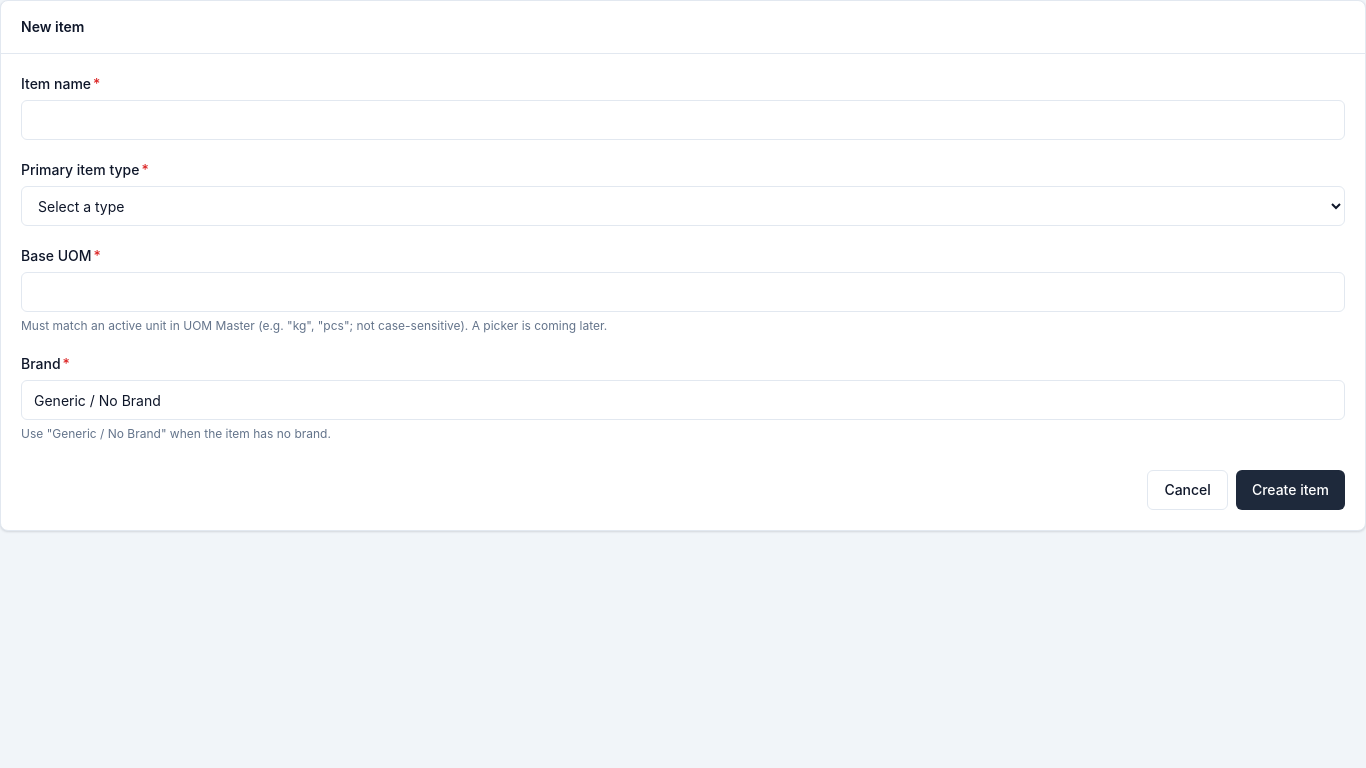
Test: ItemFormPage › surfaces a 401 honestly instead of pretending the create succeeded
The image size is (1366, 768).
Type "Flour" into the field labelled "Item name*" at (683, 120), box 21,100 -> 1345,140
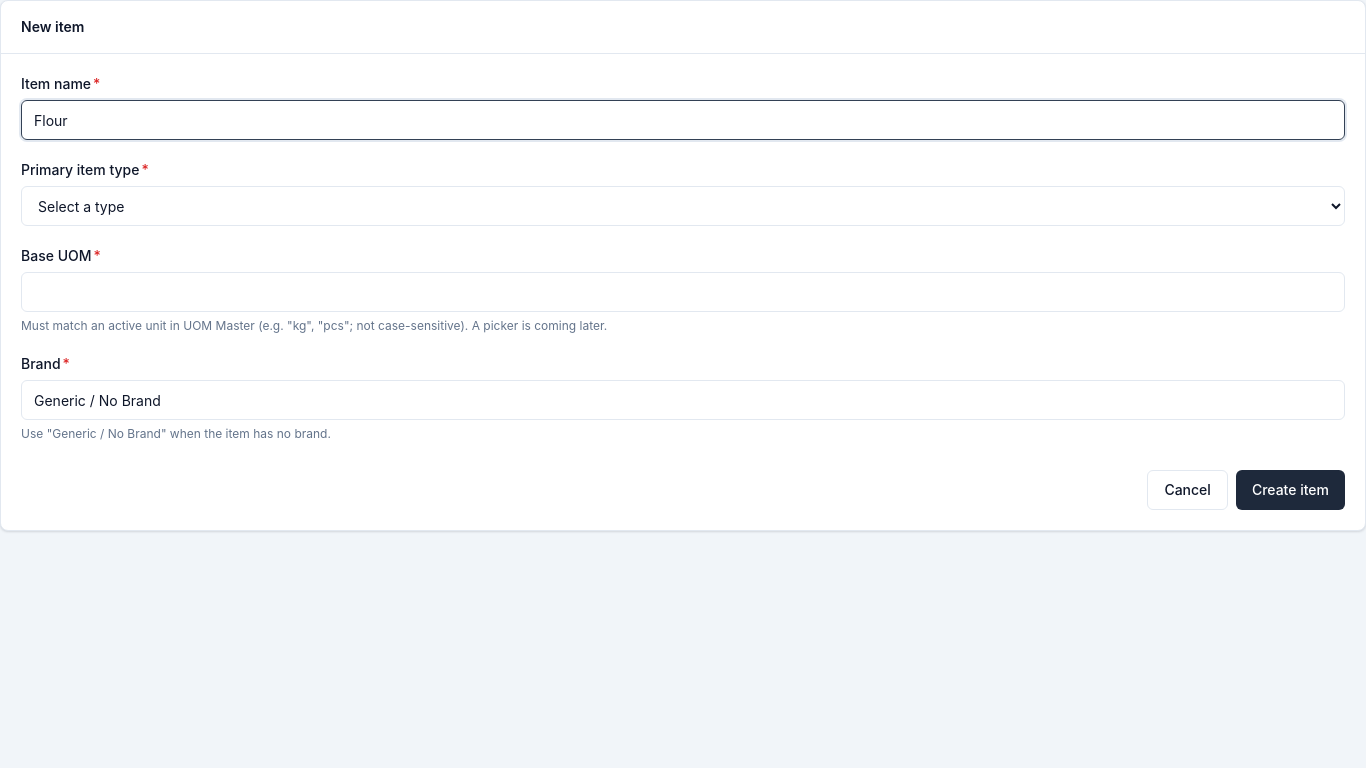
Select "Raw material" in the dropdown labelled "Primary item type*" at (683, 206), box 21,186 -> 1345,226
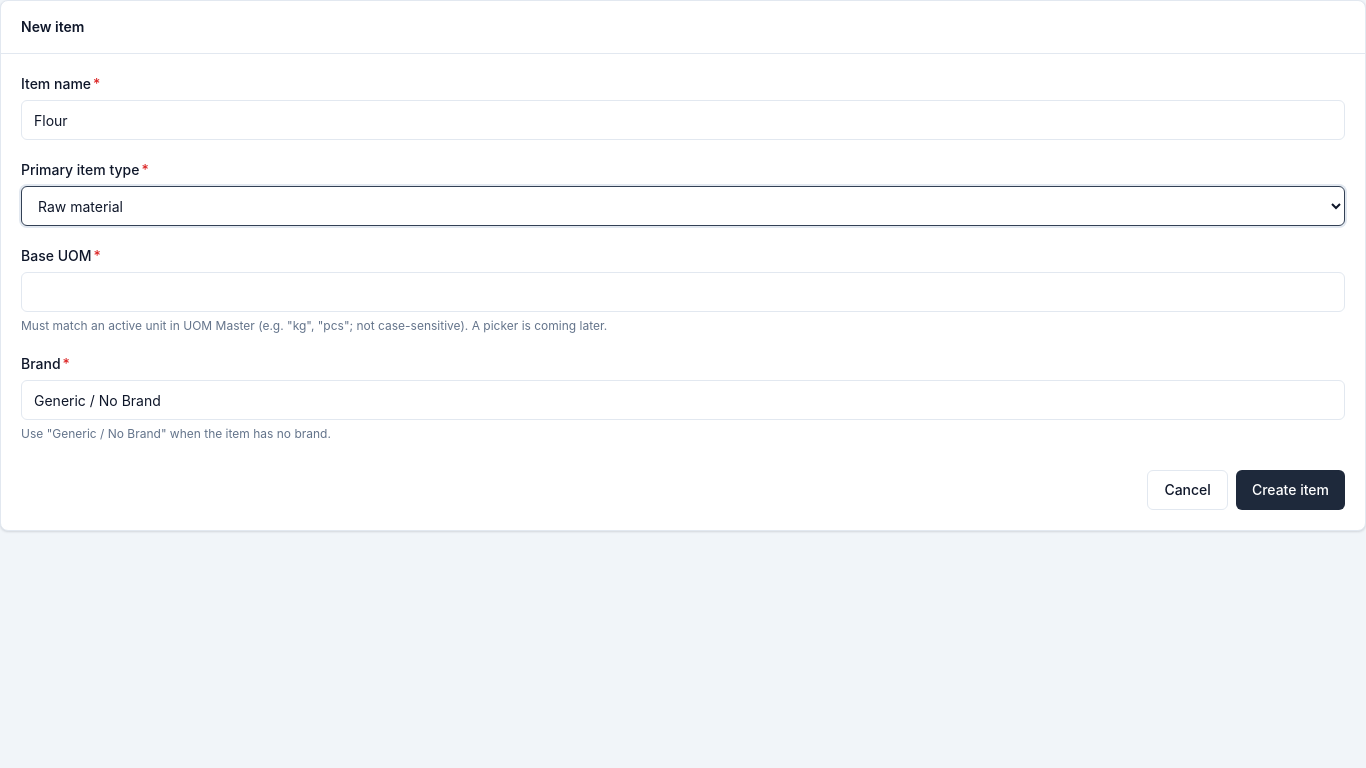
Type "kg" into the field labelled "Base UOM*" at (683, 292), box 21,272 -> 1345,312
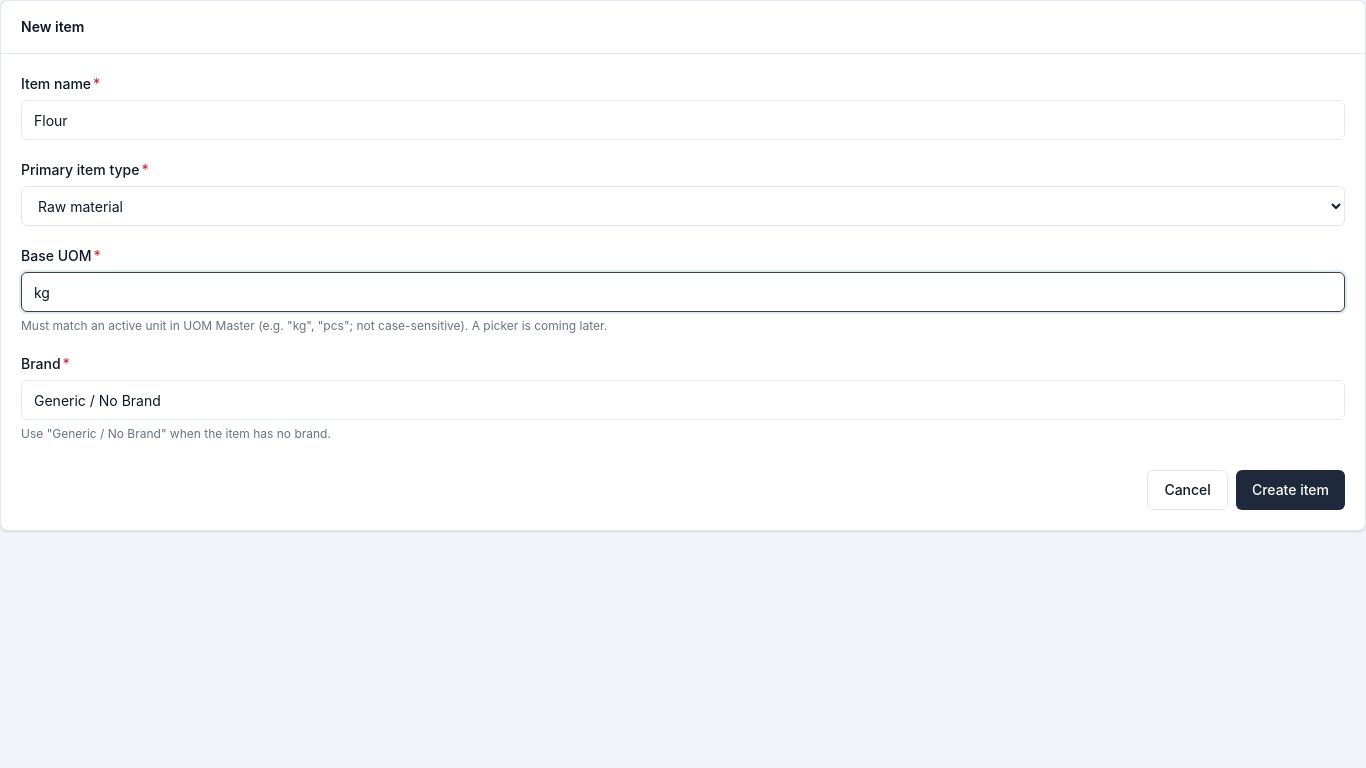
Click the button "Create item" at (1290, 490), box 1236,470 -> 1345,510
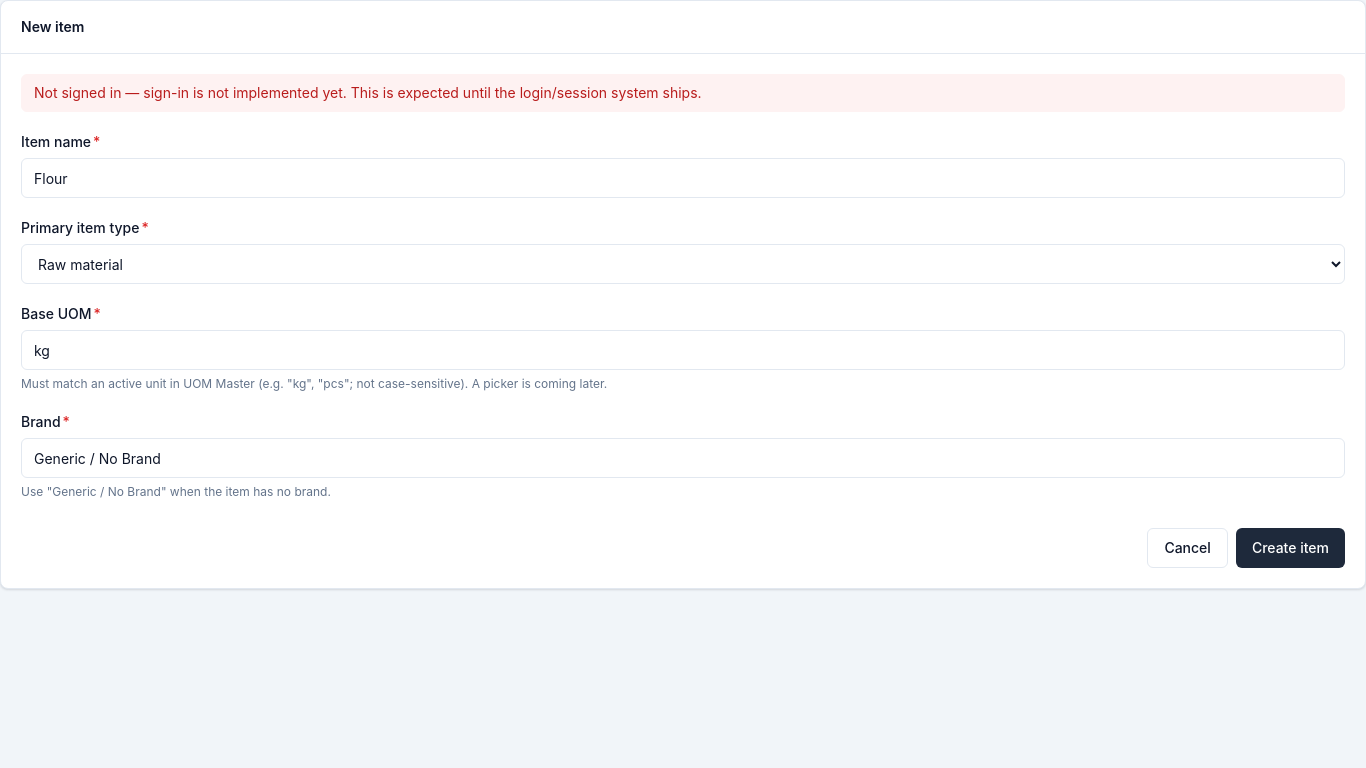
expect the text "sign-in is not implemented yet" is shown: met, box 34,84 -> 702,101
